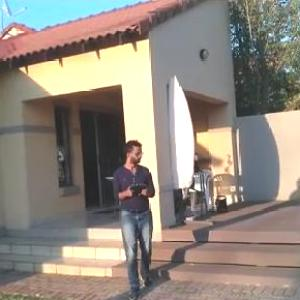follow: (111, 135, 161, 299)
